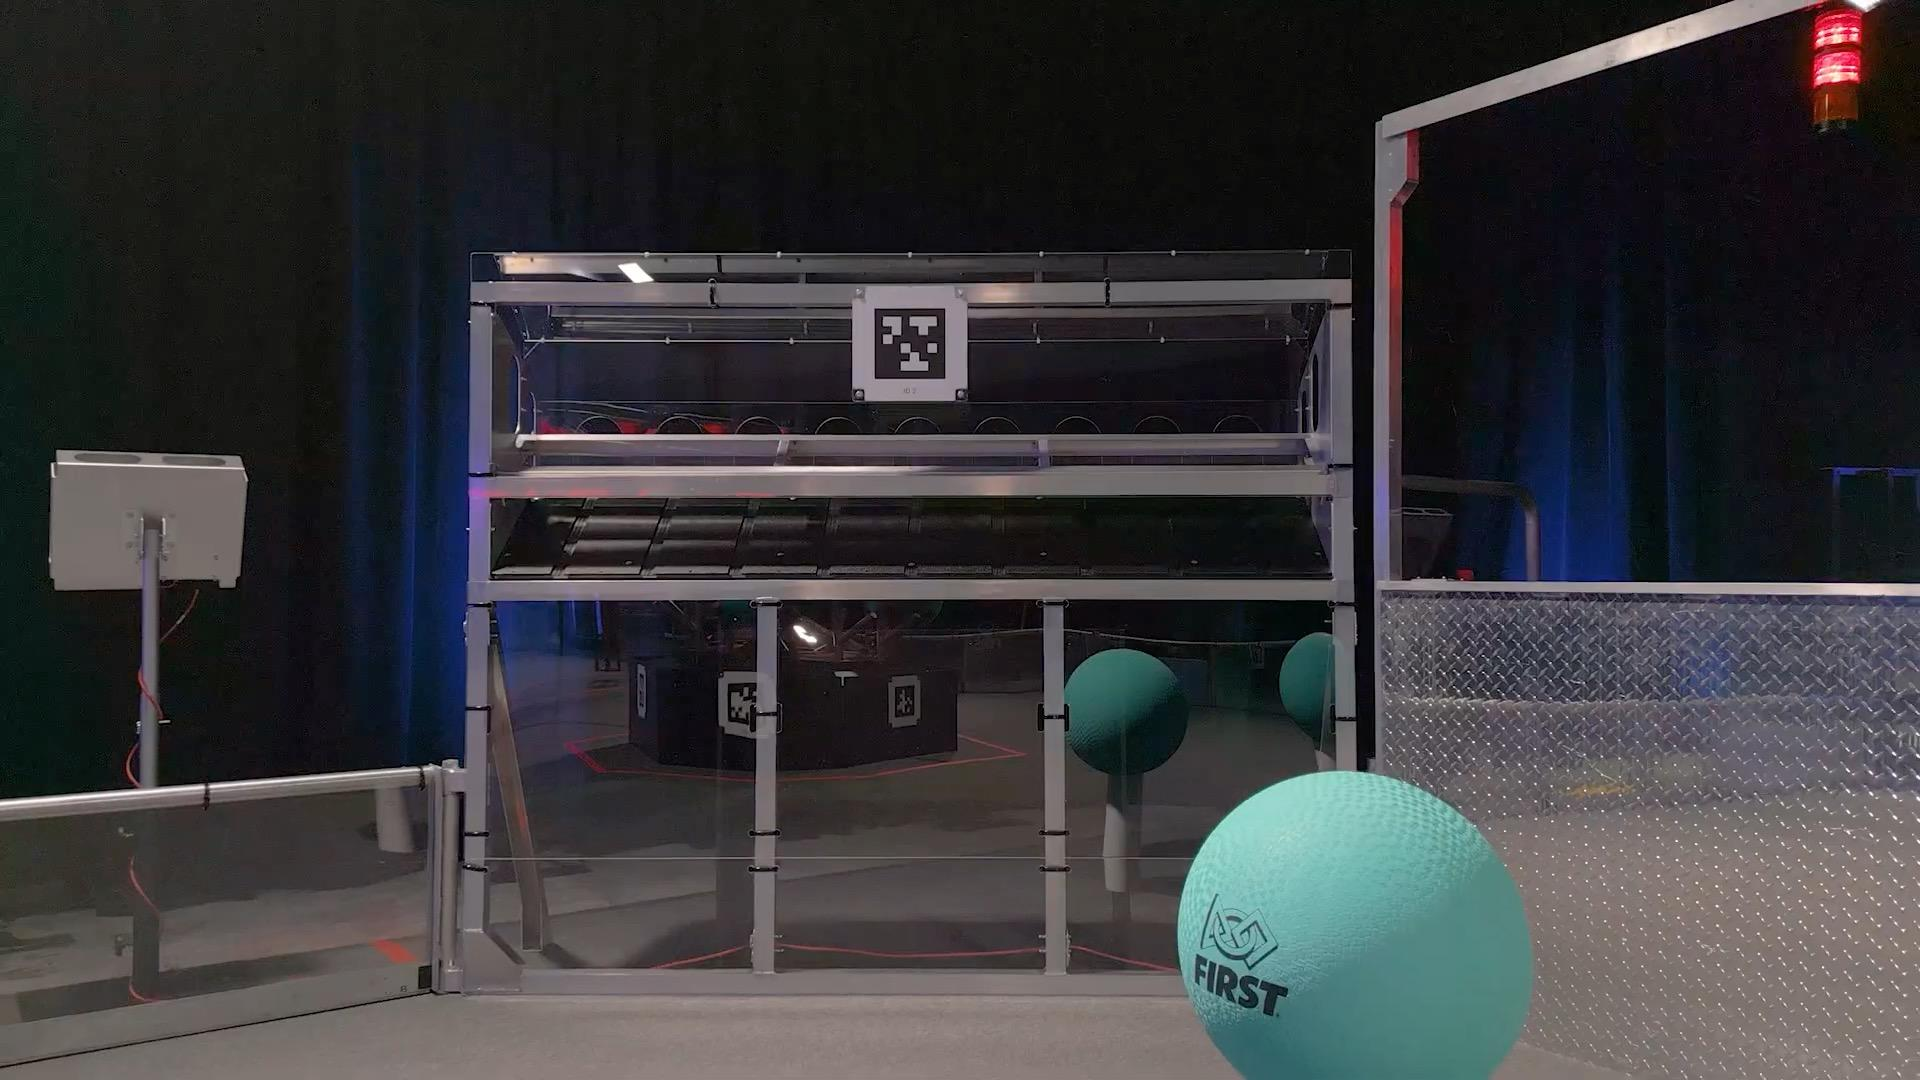ALGAE: (1178, 771, 1535, 1080)
